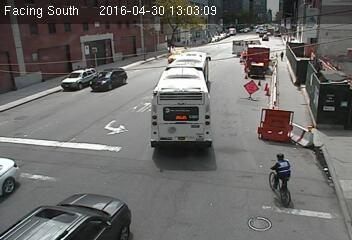neg: (254, 144, 298, 203), (157, 68, 174, 91)
pos: (275, 48, 286, 63)
